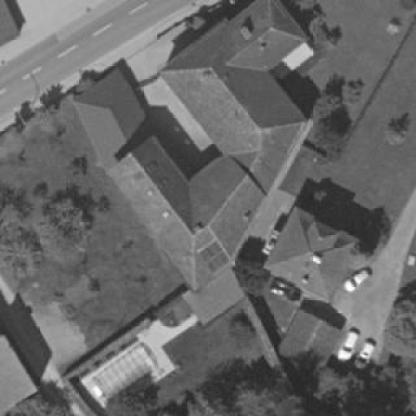solar-pv-panel: (197, 240, 232, 275)
